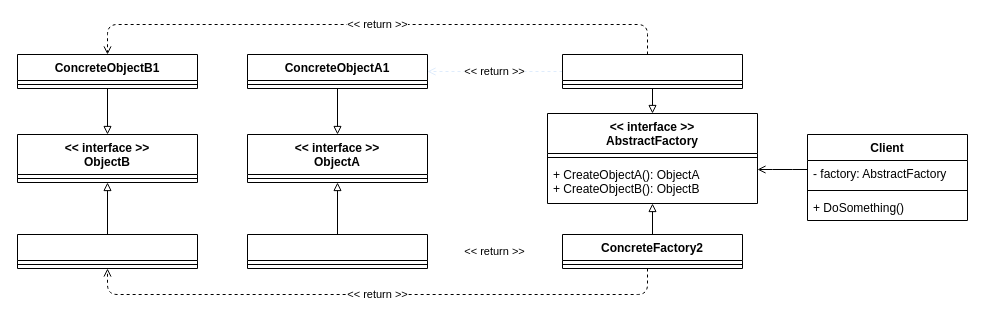
Image size: 985x320. Some labels were removed from this diagram. Each missing label, with the centre of its shape:
ConcreteFactory1: the point at 652,71
ConcreteObjectA2: the point at 337,251
ConcreteObjectB2: the point at 107,251
